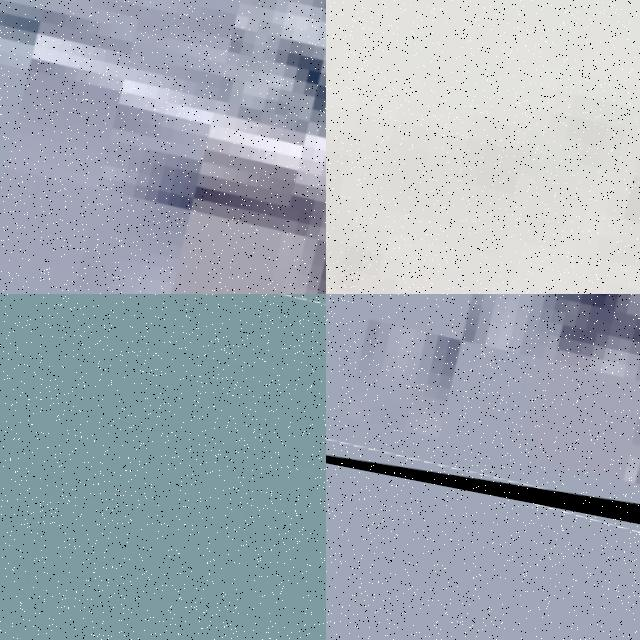drone: (0, 294, 326, 640), (0, 0, 326, 294), (326, 0, 640, 294), (326, 294, 640, 540)
